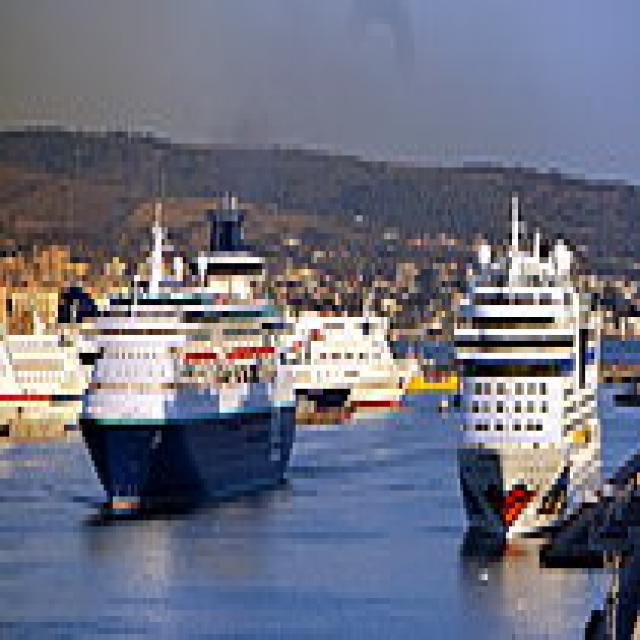Ship: (68, 175, 315, 522), (440, 181, 623, 576)
